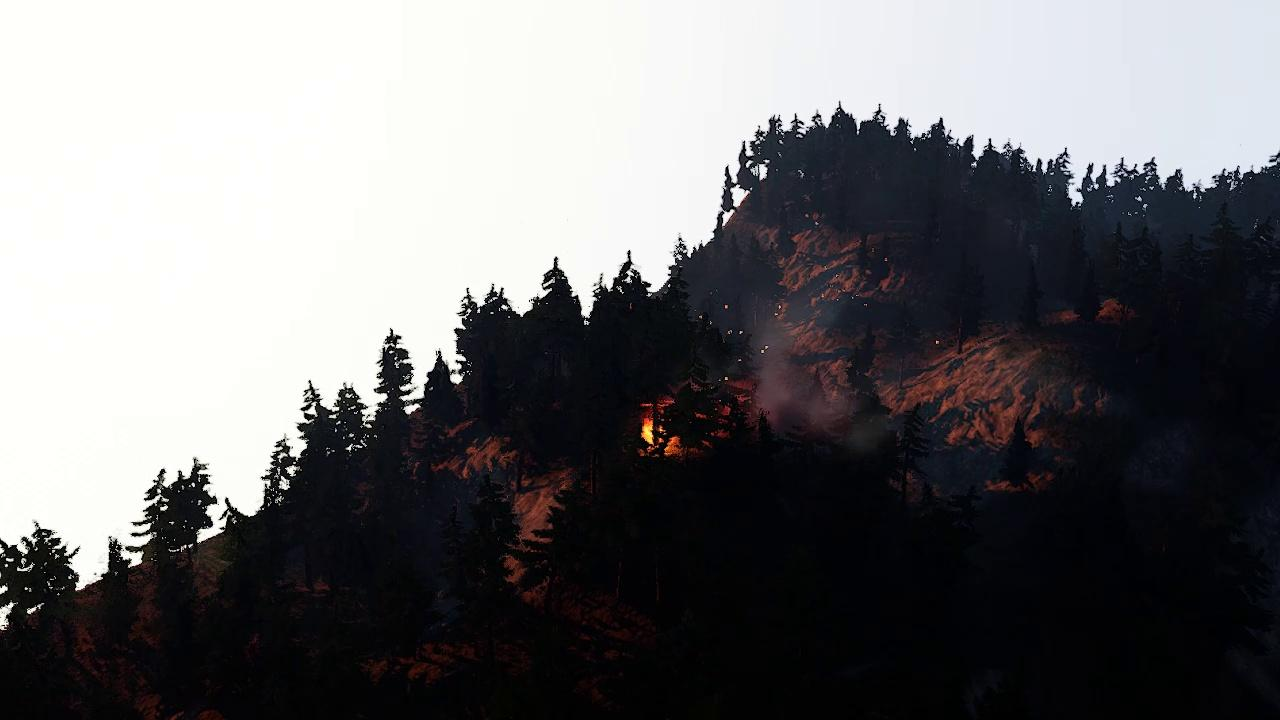fire: (641, 416, 668, 453)
smoke: (750, 307, 800, 431)
